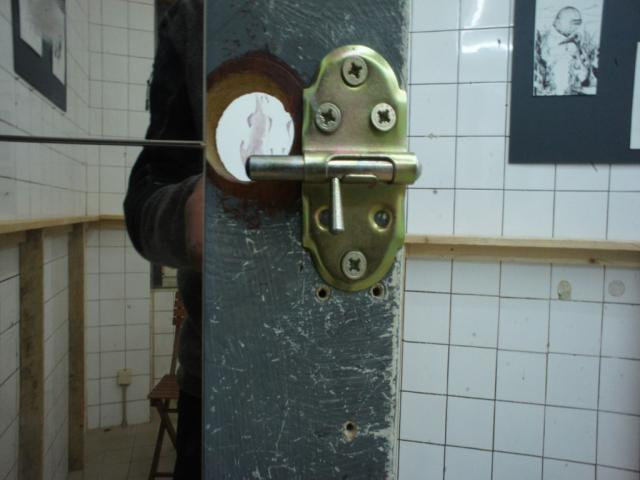Door-handle: (242, 42, 426, 295)
